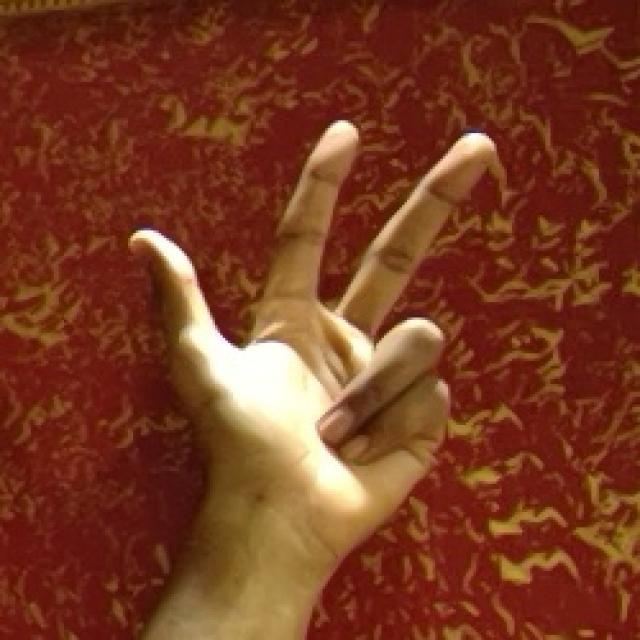Numeric-3: (123, 117, 498, 531)
